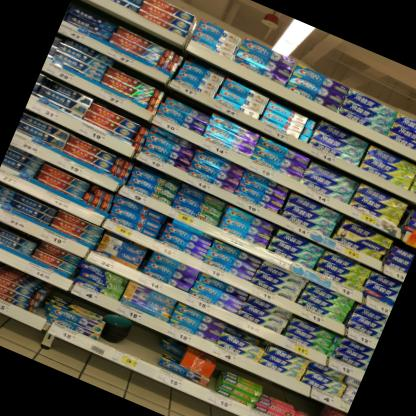empty_space: (122, 326, 160, 365)
